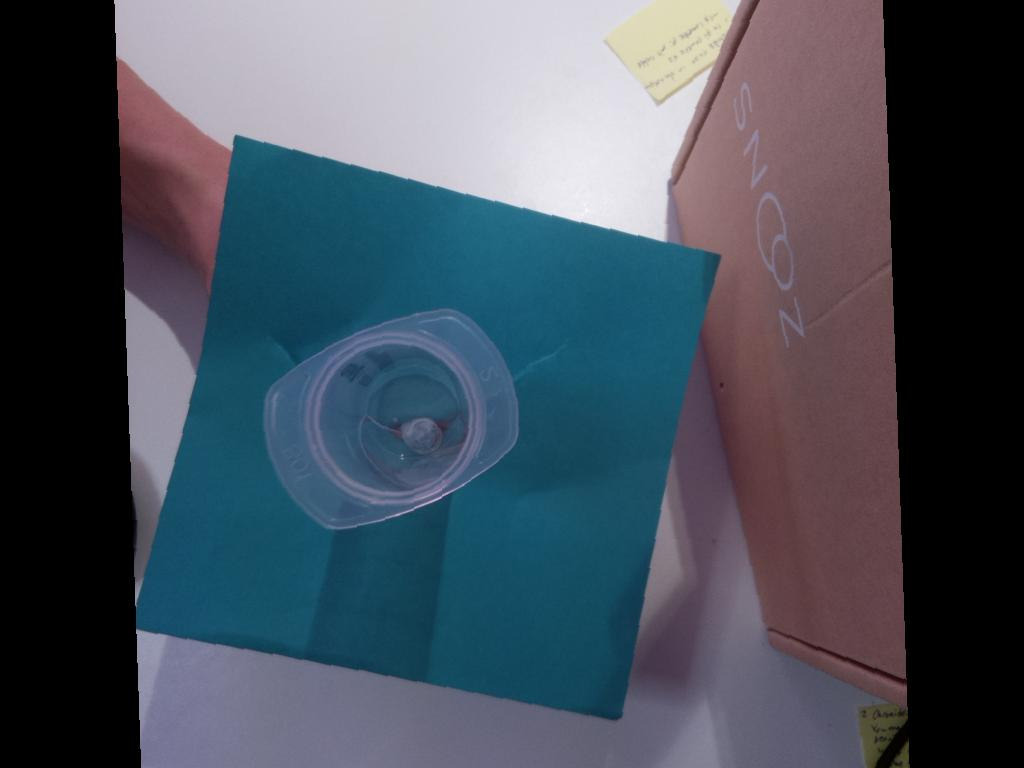clean: (264, 307, 522, 532)
